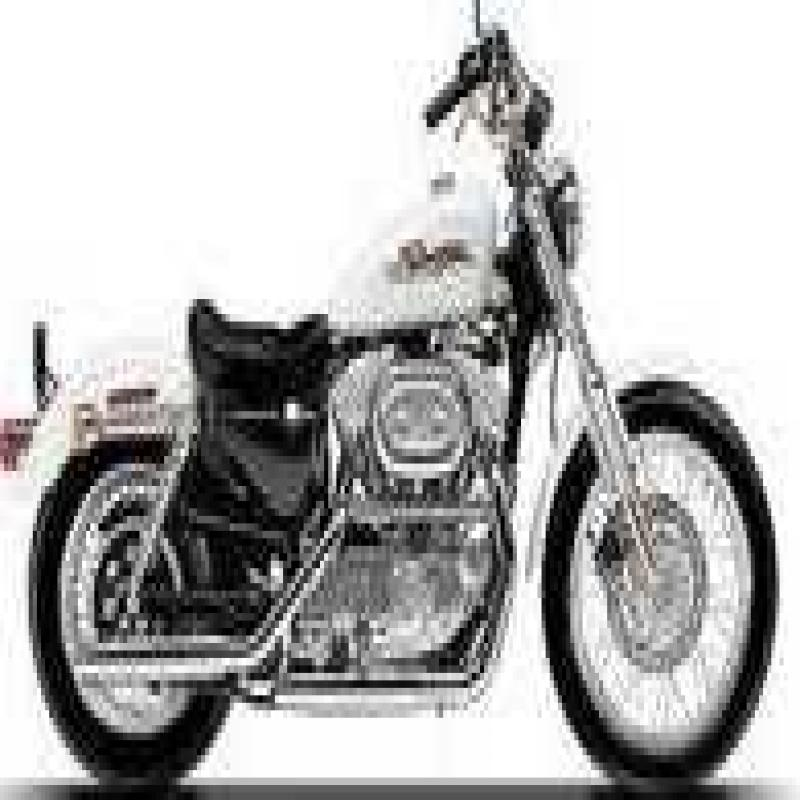bike: (2, 15, 770, 788)
